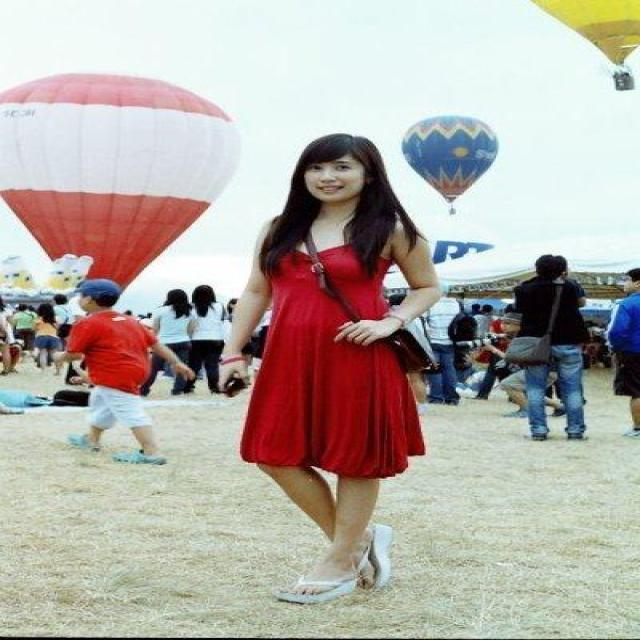bag: (371, 328, 440, 396)
dress: (240, 243, 424, 482)
shoe: (276, 532, 418, 601)
